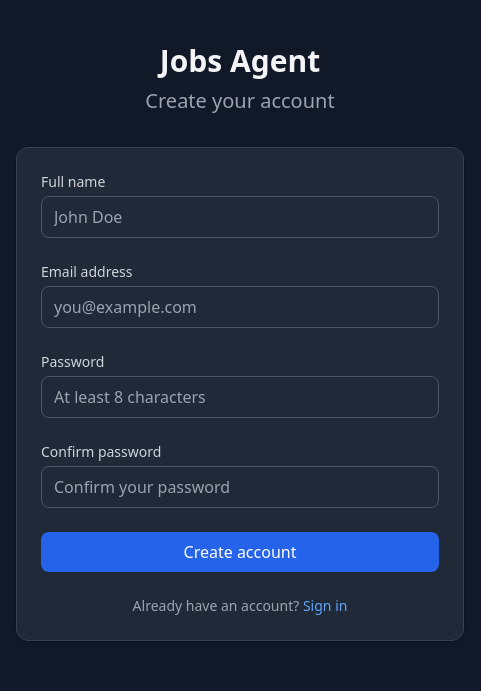
RegisterPage › validates password length
Type "Test User" into the field labelled "Full name". click: (240, 217)
box: [41, 196, 439, 238]
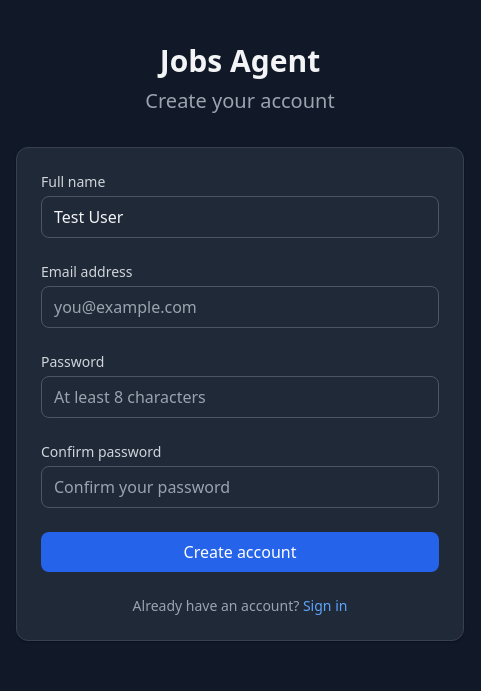
Type "test@example.com" into the field labelled "Email address". click: (240, 307)
box: [41, 286, 439, 328]
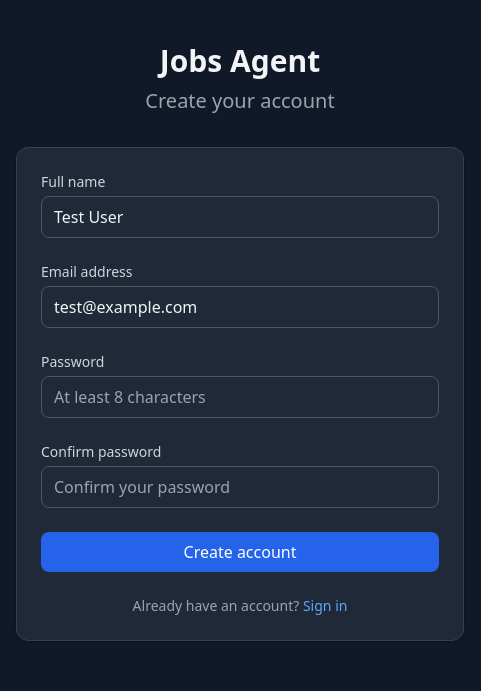
Type "short" into the password field labelled "Password". click: (240, 397)
box: [41, 376, 439, 418]
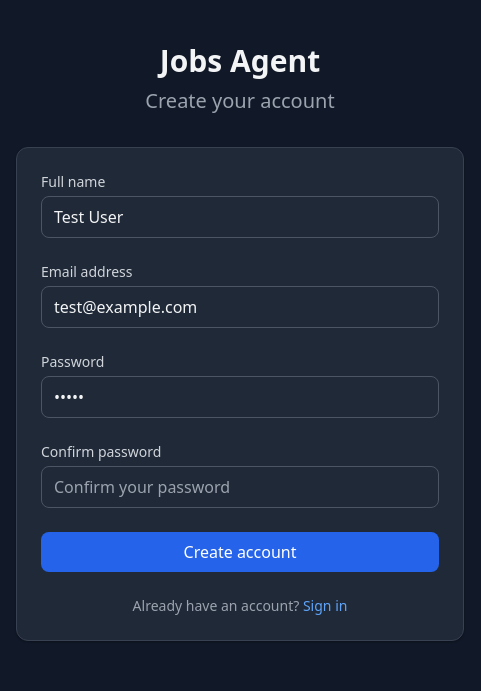
Type "short" into the password field labelled "Confirm password". click: (240, 487)
box: [41, 466, 439, 508]
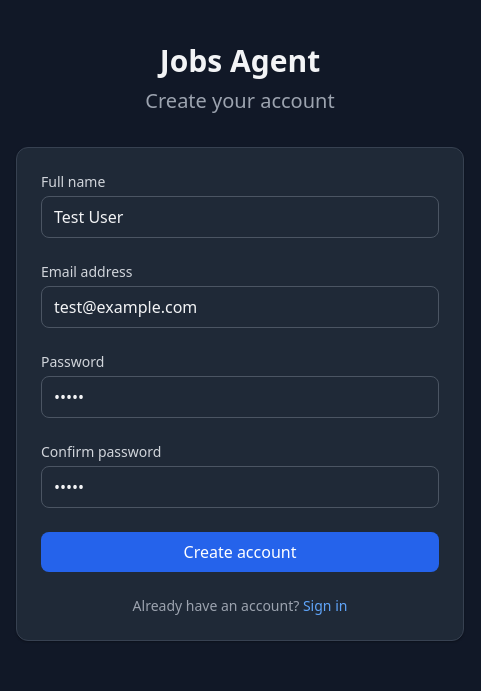
Click the button "Create account". click: (240, 552)
box: [41, 532, 439, 572]
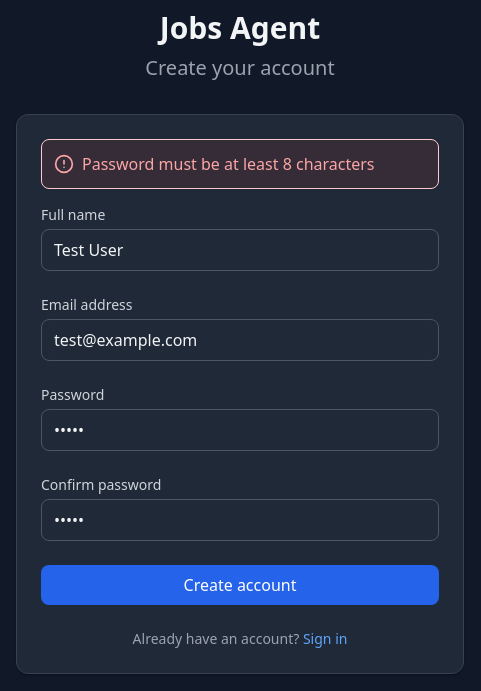
expect the text "Password must be at least 8 characters" is shown: met, box [82, 152, 374, 176]
